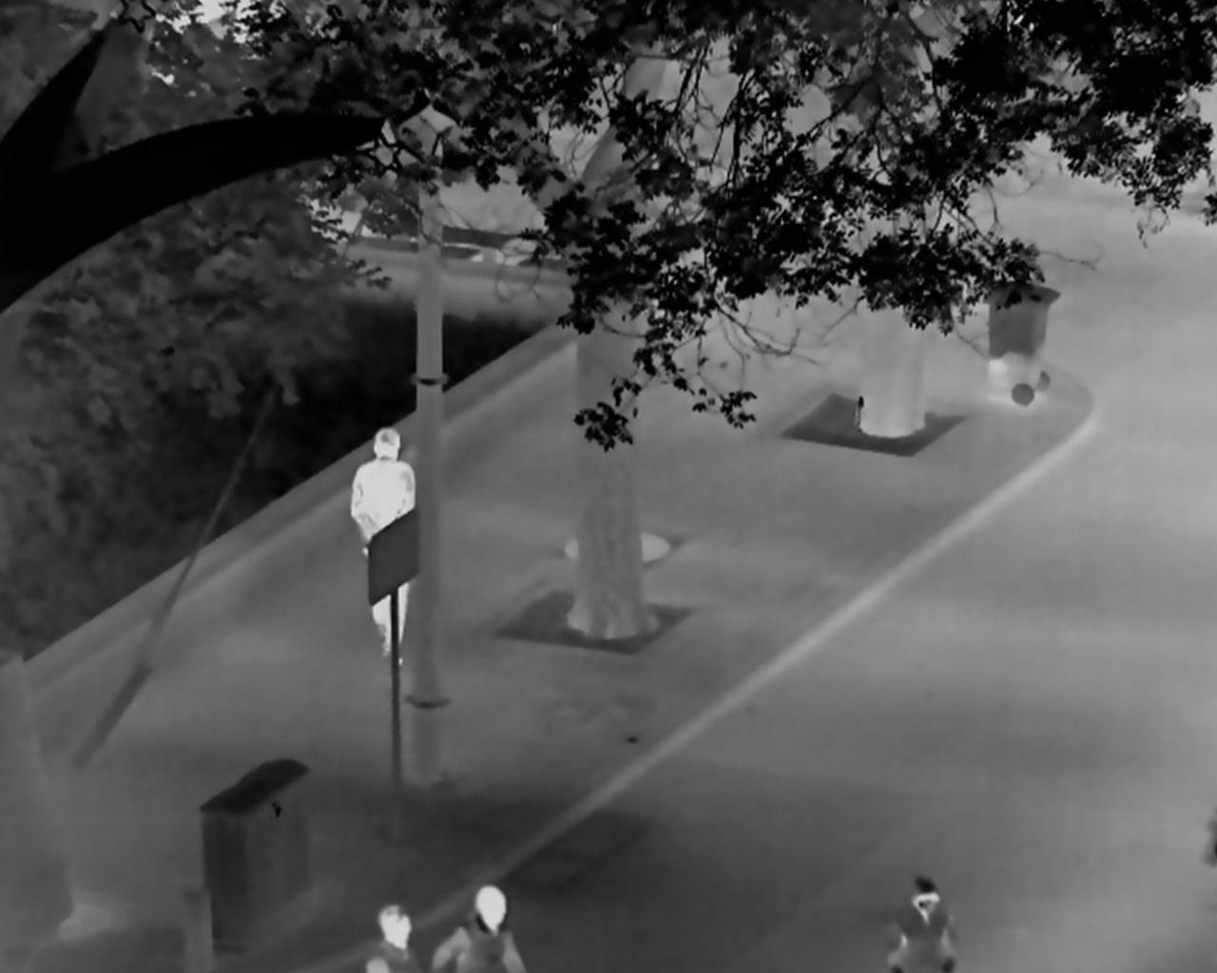person: (351, 427, 414, 663), (428, 885, 527, 973), (888, 875, 962, 973), (364, 905, 426, 973)
